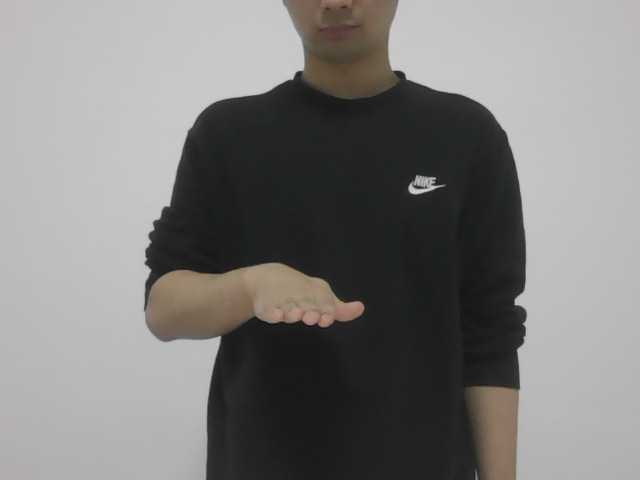slow: (250, 248, 366, 338)
